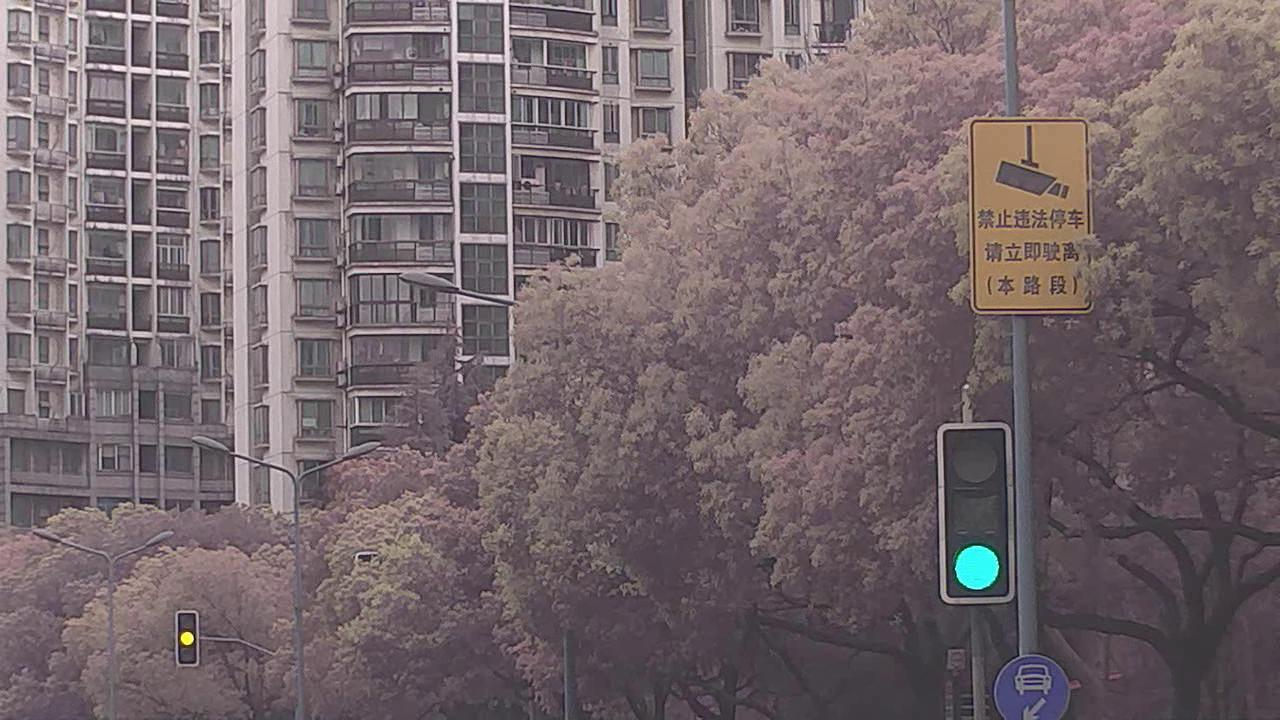traffic_light: (937, 422, 1015, 605), (175, 609, 201, 667)
